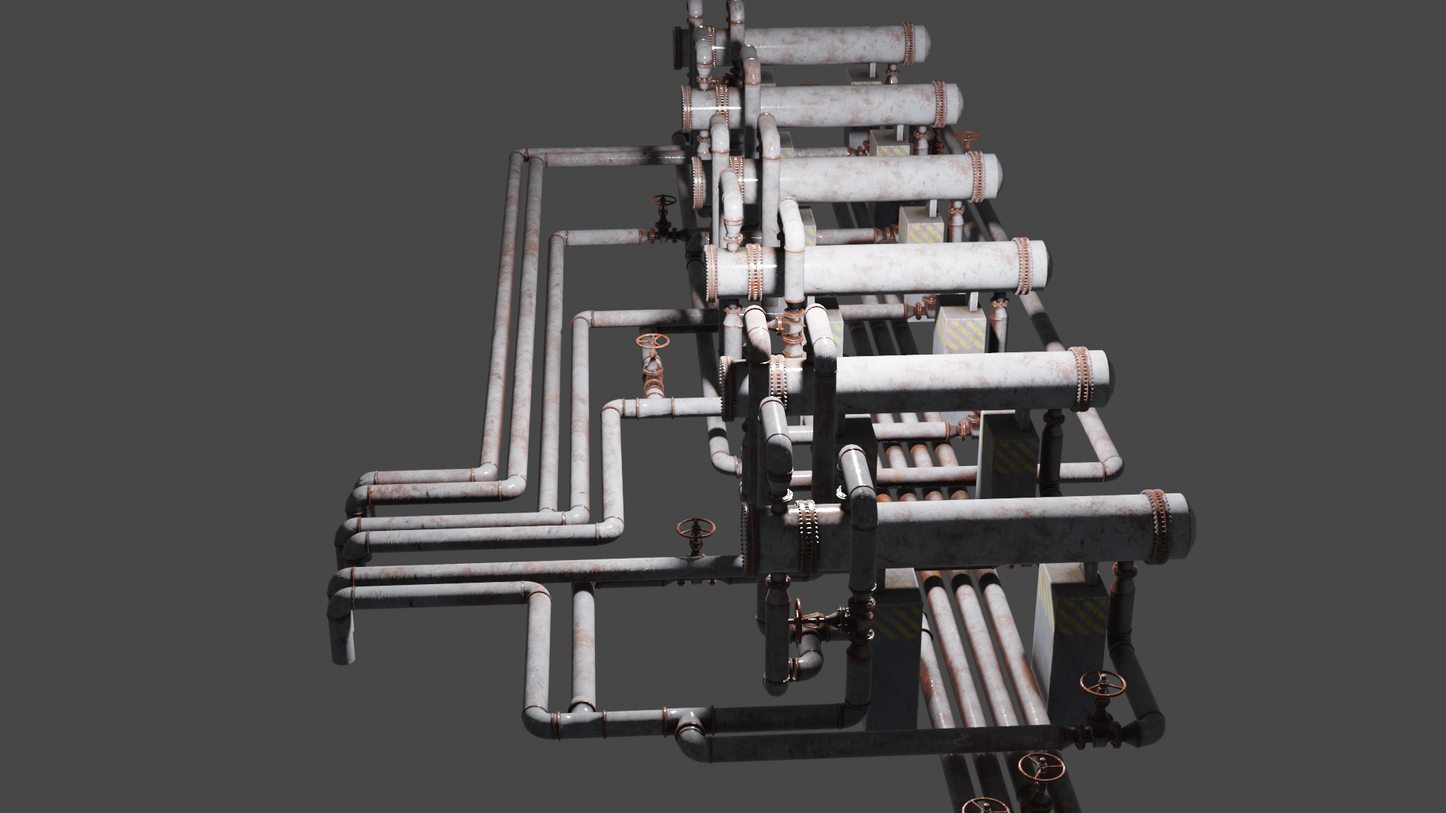HE_1: (672, 24, 932, 64)
HE_2: (678, 82, 964, 125)
HE_3: (688, 149, 1005, 209)
HE_4: (698, 237, 1052, 293)
HE_5: (723, 347, 1112, 417)
HE_6: (740, 488, 1200, 568)
